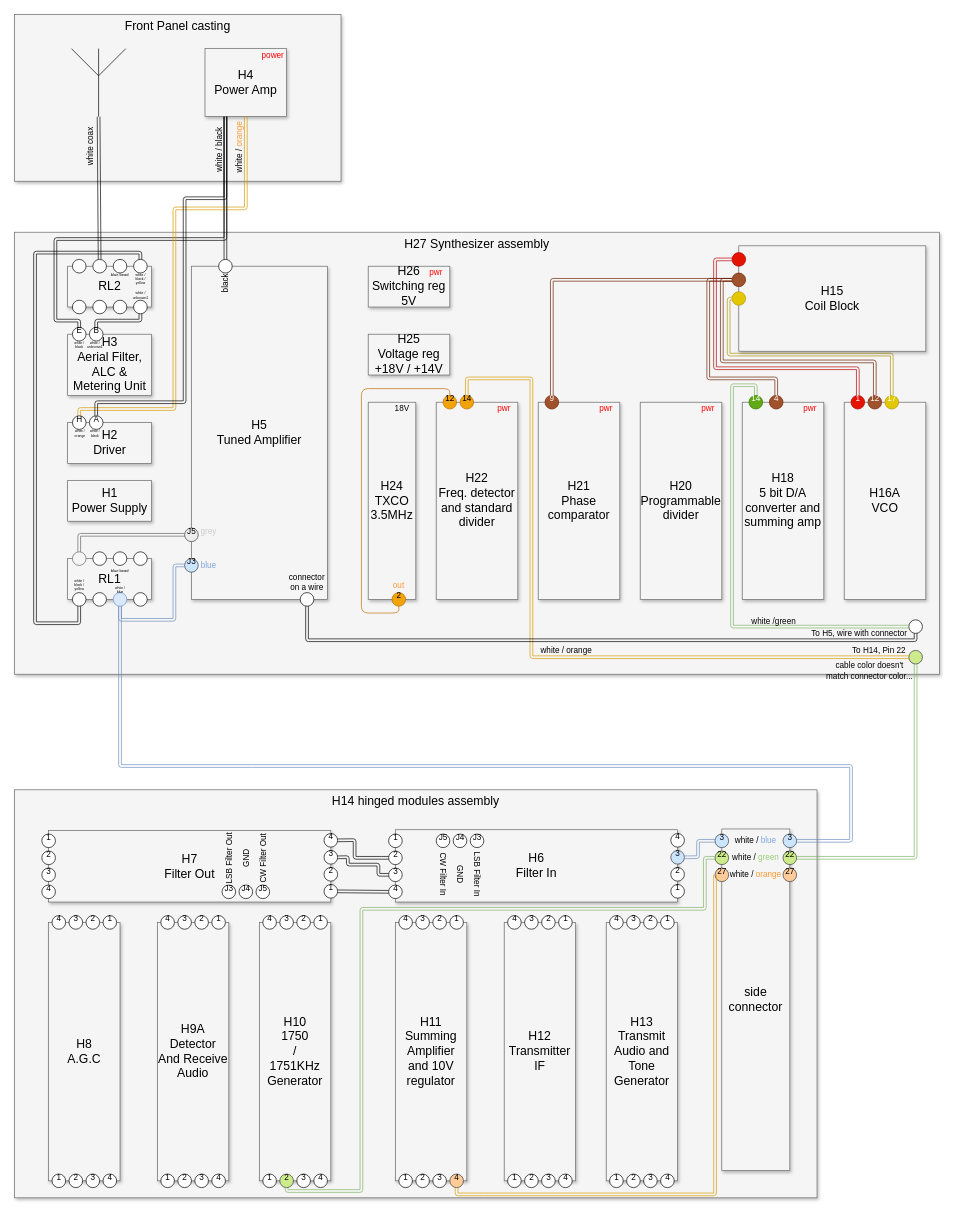
Some shapes in this 965 by 1214 pixel diagram are drawn without their labels. Each missing label, with the centre of its shape:
"BNC" goes at point (98, 82).
"J2" goes at point (225, 266).
"white / ???" goes at point (99, 266).
"white / grey" goes at point (79, 558).
